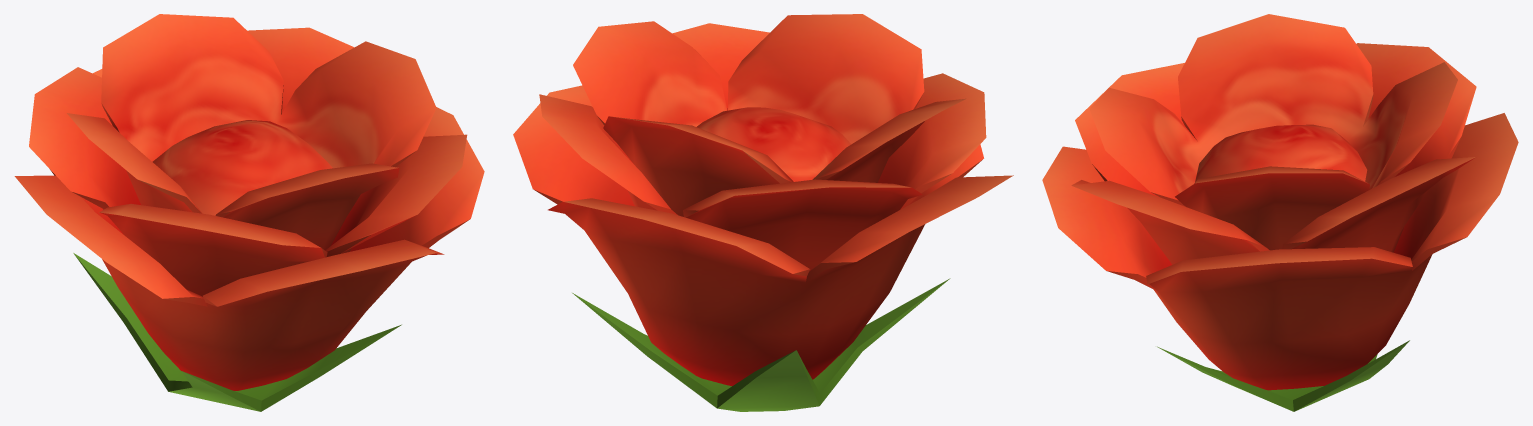
The model's file is rose.FBX.
The picture shows the model from 3 angles, left to right: view 1: azimuth 30°, elevation 25°; view 2: azimuth 150°, elevation 25°; view 3: azimuth 270°, elevation 25°; orthographic projection. The views are drawn at different scales.
Parts seen in each view (by area): view 1: rose; view 2: rose; view 3: rose.
Part boxes in pixels (<box>): rose: <box>14,14,484,411</box>; rose: <box>513,14,1013,411</box>; rose: <box>1042,14,1518,411</box>.
Size of the model in its own units: 52.99 by 40.07 by 53.78.
